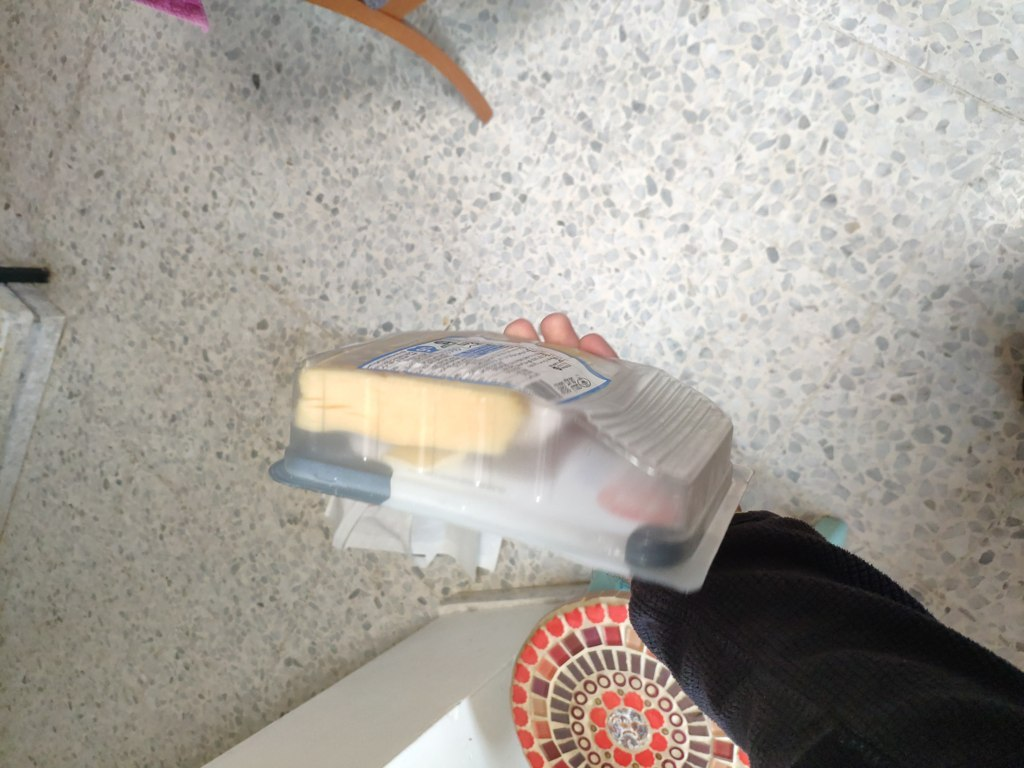Cheese: (270, 322, 727, 604)
